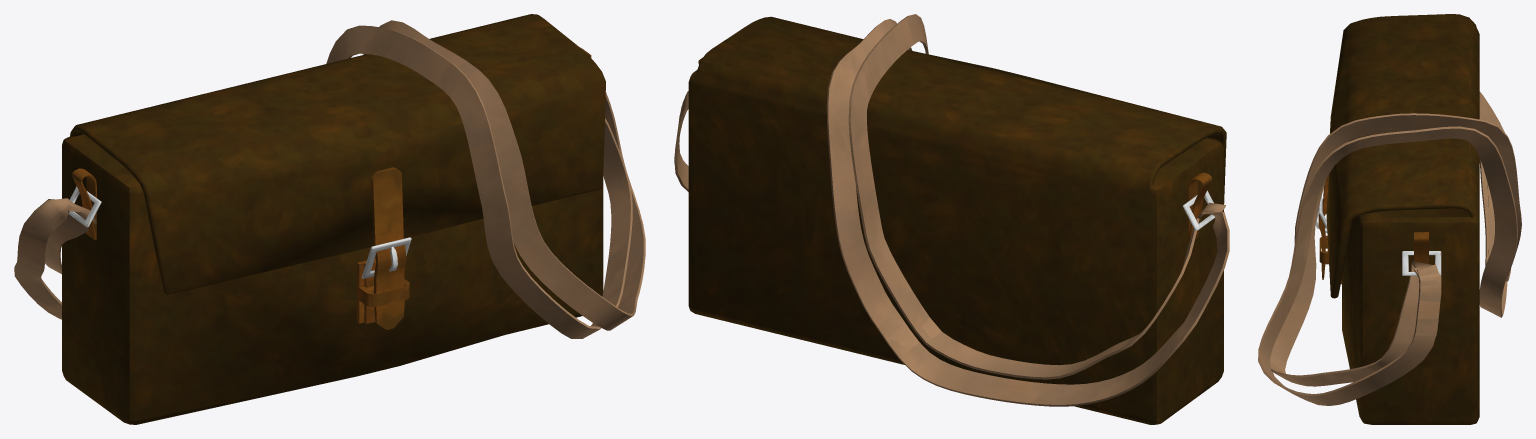
The model's file is House_Bag_v01.fbx.
3 renders of one model, left to right at view 1: azimuth 30°, elevation 25°; view 2: azimuth 150°, elevation 25°; view 3: azimuth 270°, elevation 25°, orthographic. The views are drawn at different scales.
Visible parts, largest first — view 1: Bag_Body, Bag_Sling, Bag_BuckleTail, Bag_Buckle, Bag_SlingHolder; view 2: Bag_Body, Bag_Sling, Bag_SlingHolder; view 3: Bag_Body, Bag_Sling, Bag_SlingHolder, Bag_BuckleTail, Bag_SlingLink.
Part boxes in pixels (x1,y1,x2,y2): Bag_Body: (62, 14, 605, 424); Bag_Sling: (14, 20, 645, 338); Bag_BuckleTail: (371, 167, 406, 329); Bag_Buckle: (357, 258, 409, 323); Bag_SlingHolder: (72, 47, 591, 240); Bag_Body: (688, 16, 1226, 424); Bag_Sling: (674, 14, 1229, 406); Bag_SlingHolder: (698, 57, 1211, 243); Bag_Body: (1326, 14, 1479, 424); Bag_Sling: (1258, 91, 1521, 405); Bag_SlingHolder: (1414, 232, 1428, 263); Bag_BuckleTail: (1318, 174, 1328, 279); Bag_SlingLink: (1402, 251, 1441, 275).
Size of the model in its own units: 78.23 by 36.4 by 37.65.
1 material, 1 textured.
